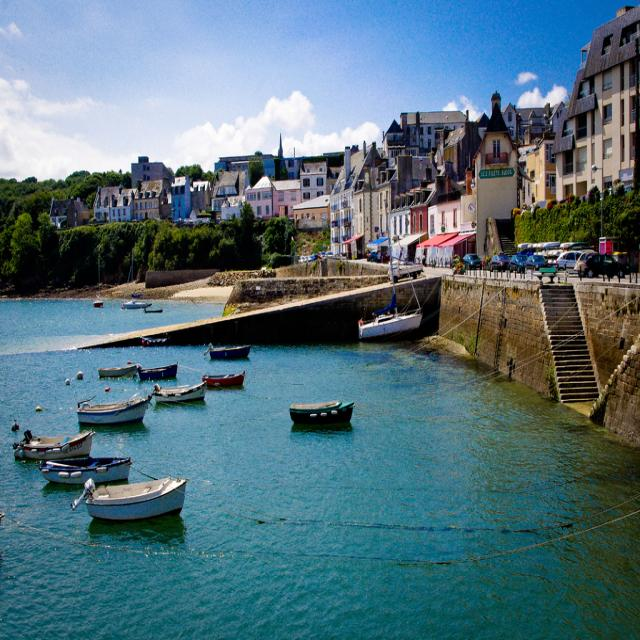Boat: (358, 200, 426, 344), (68, 476, 188, 526), (13, 430, 94, 462), (43, 461, 135, 488), (78, 398, 152, 425), (289, 401, 356, 430), (120, 268, 149, 311), (154, 381, 203, 404), (203, 342, 251, 364), (200, 371, 243, 393), (139, 364, 178, 386), (130, 243, 144, 299), (95, 364, 142, 380), (92, 260, 108, 306), (145, 306, 161, 316)
